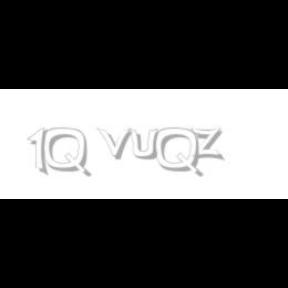1: (27, 128, 49, 176)
Q: (43, 128, 89, 178), (155, 128, 201, 178)
u: (128, 128, 162, 160)
v: (96, 128, 136, 160)
z: (190, 128, 226, 160)
